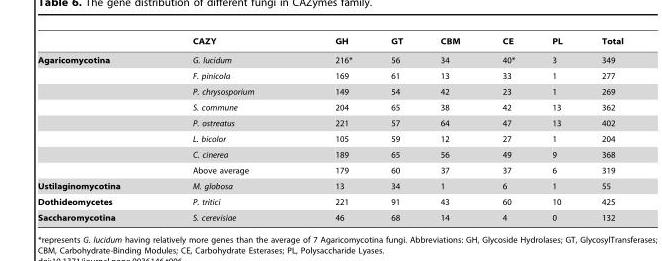table: (37, 36, 622, 221)
table column: (155, 36, 294, 221), (37, 36, 155, 221), (294, 36, 370, 221), (421, 36, 480, 221), (480, 36, 532, 221), (370, 36, 421, 221), (532, 36, 581, 221), (581, 36, 622, 221)
table column header: (37, 36, 622, 50)
table row: (37, 50, 622, 67), (37, 67, 622, 83), (37, 83, 622, 99), (37, 99, 622, 115), (37, 130, 622, 146), (37, 146, 622, 162), (37, 162, 622, 178), (37, 193, 622, 209), (37, 115, 622, 130), (37, 178, 622, 193), (37, 36, 622, 50), (37, 209, 622, 221)
table spanning cell: (37, 50, 155, 178)
